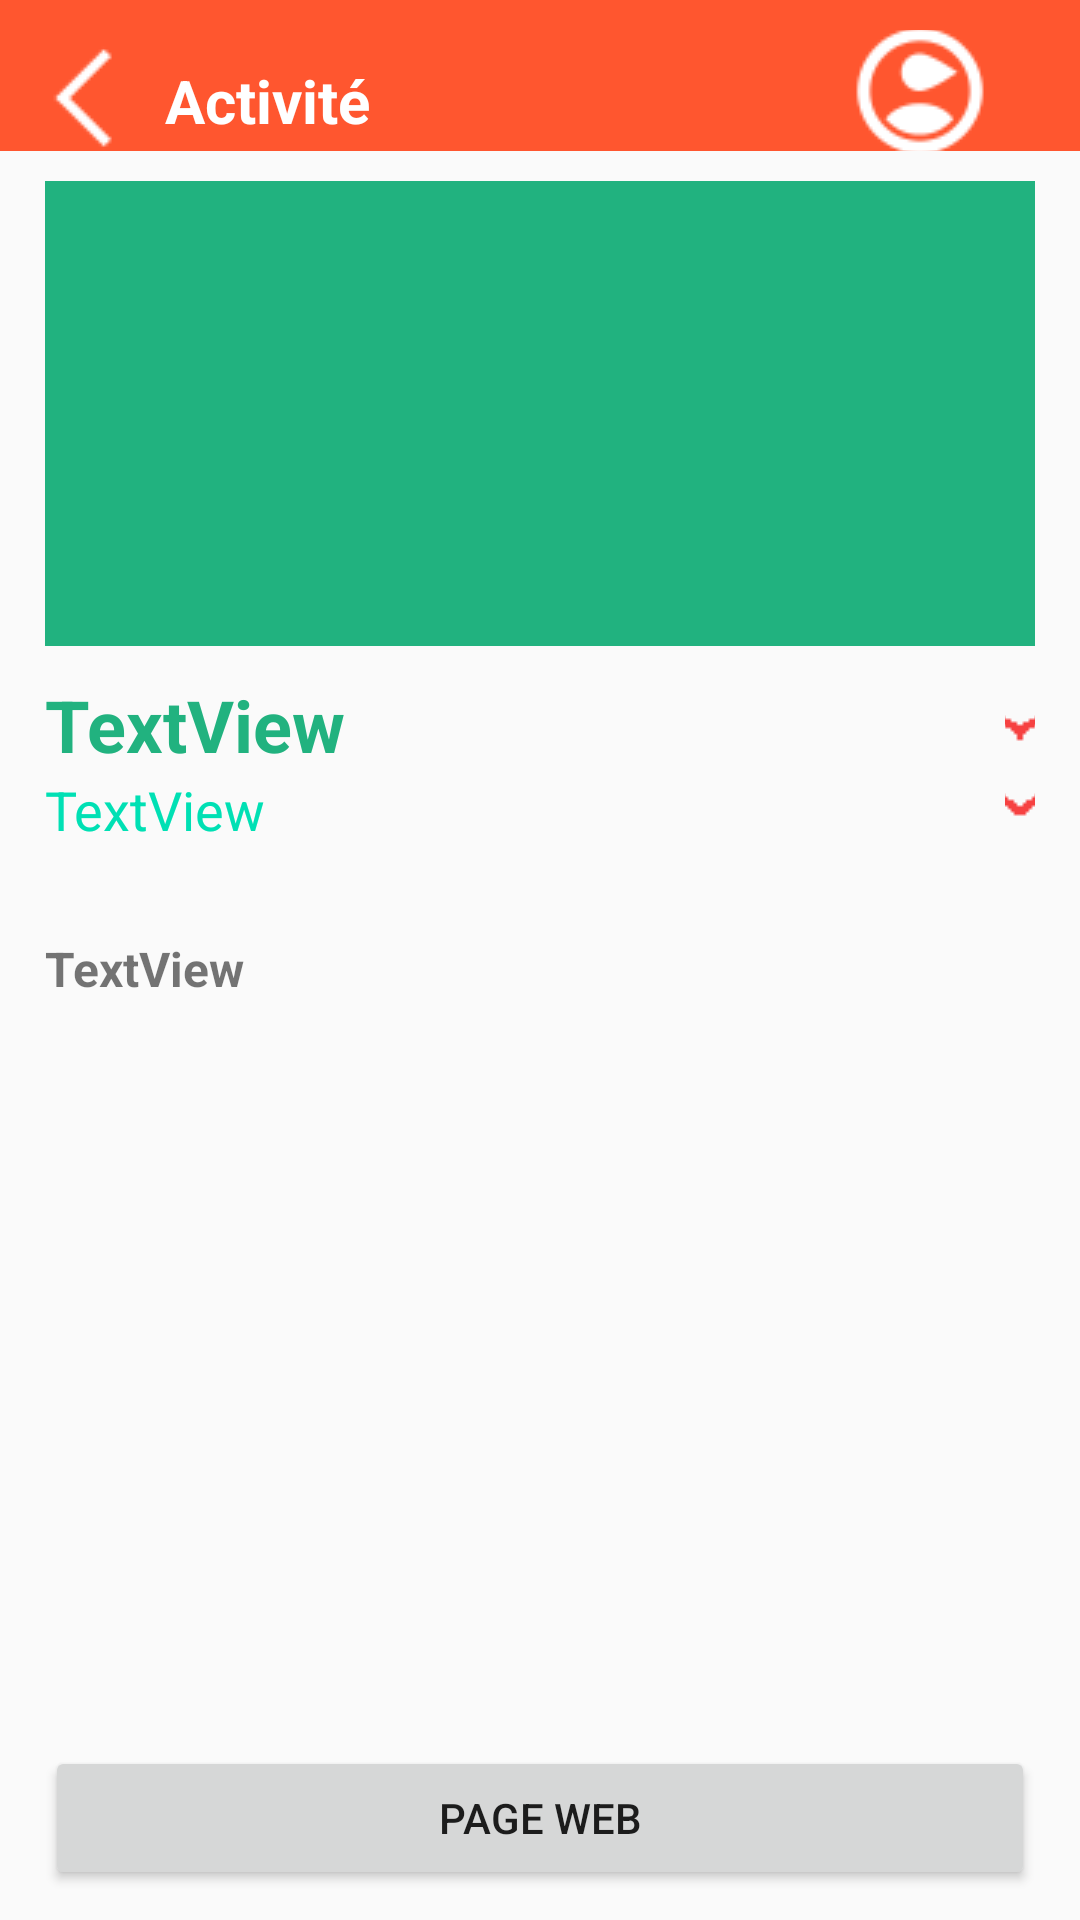

Named icons in this screenshot (1080x1920) and their centers, point (x, y):
back: point (83, 98)
usercinqante: point (920, 90)
